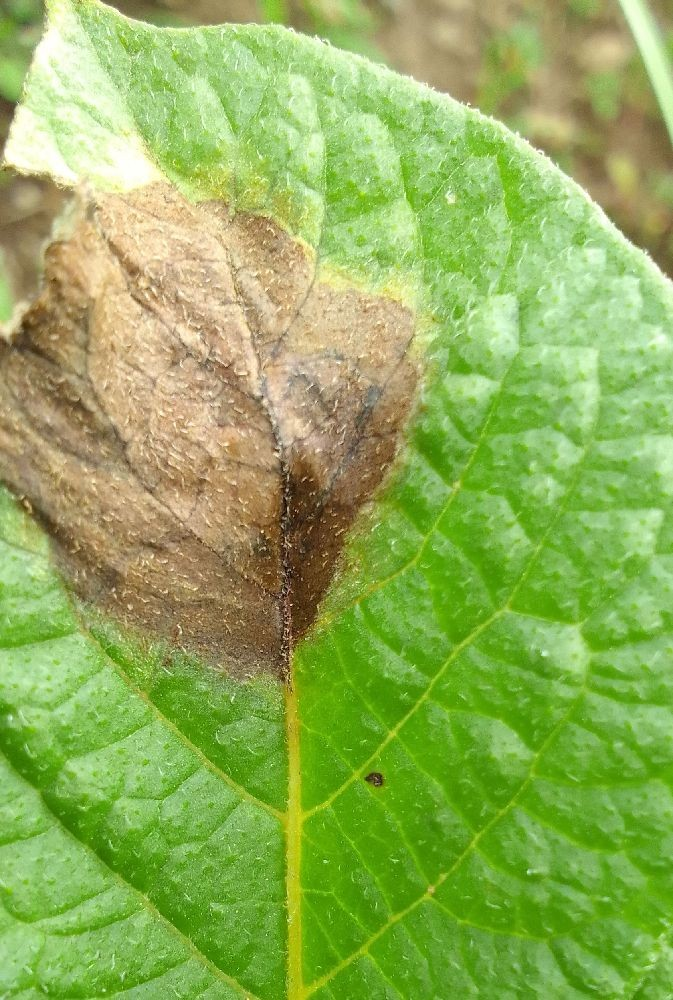late_blight: (347, 0, 672, 295), (84, 0, 276, 43)
